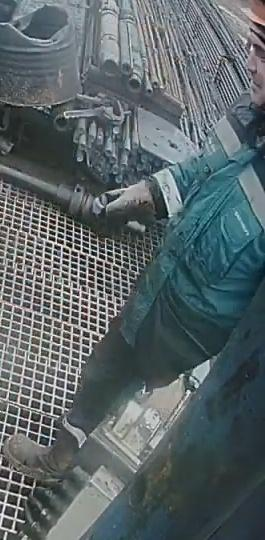gloves: (104, 177, 173, 225)
helmet: (240, 0, 265, 59)
vest: (119, 94, 264, 388)
